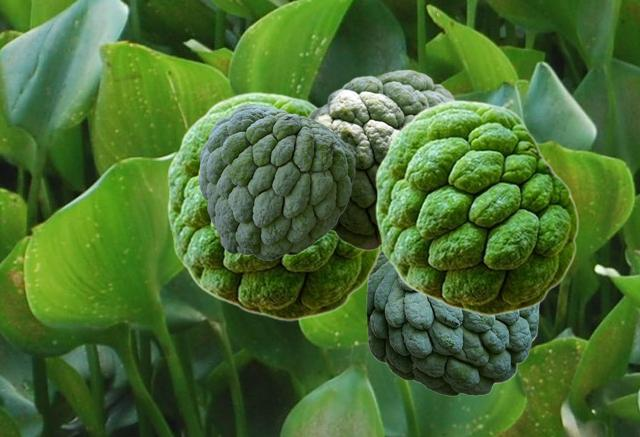atis: (167, 91, 381, 320), (375, 99, 578, 315), (307, 69, 454, 250), (366, 251, 539, 395), (198, 104, 354, 259)
